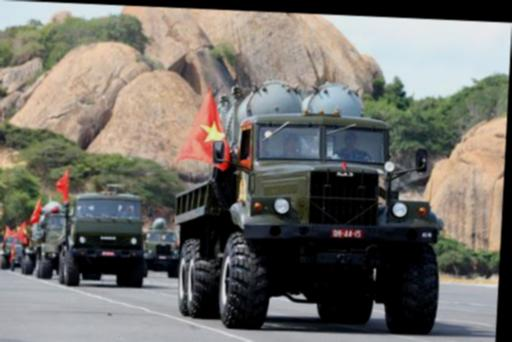License_Plate: (328, 225, 365, 242), (101, 250, 118, 258)
